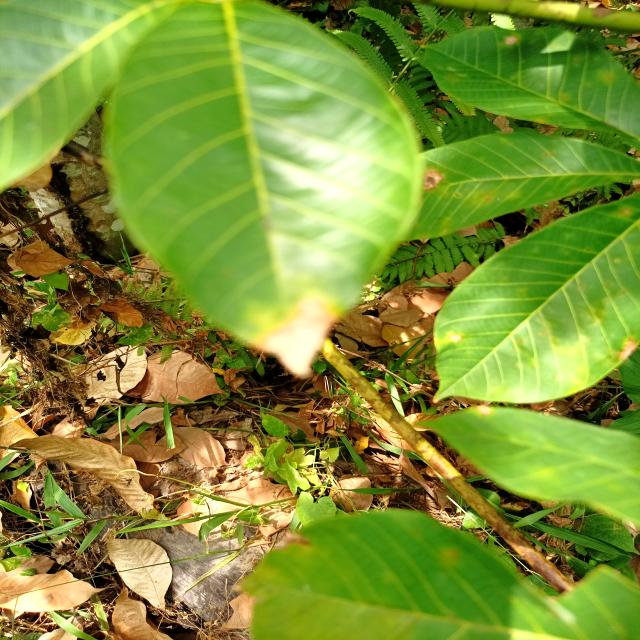Leaf-Blight: (261, 294, 340, 378)
